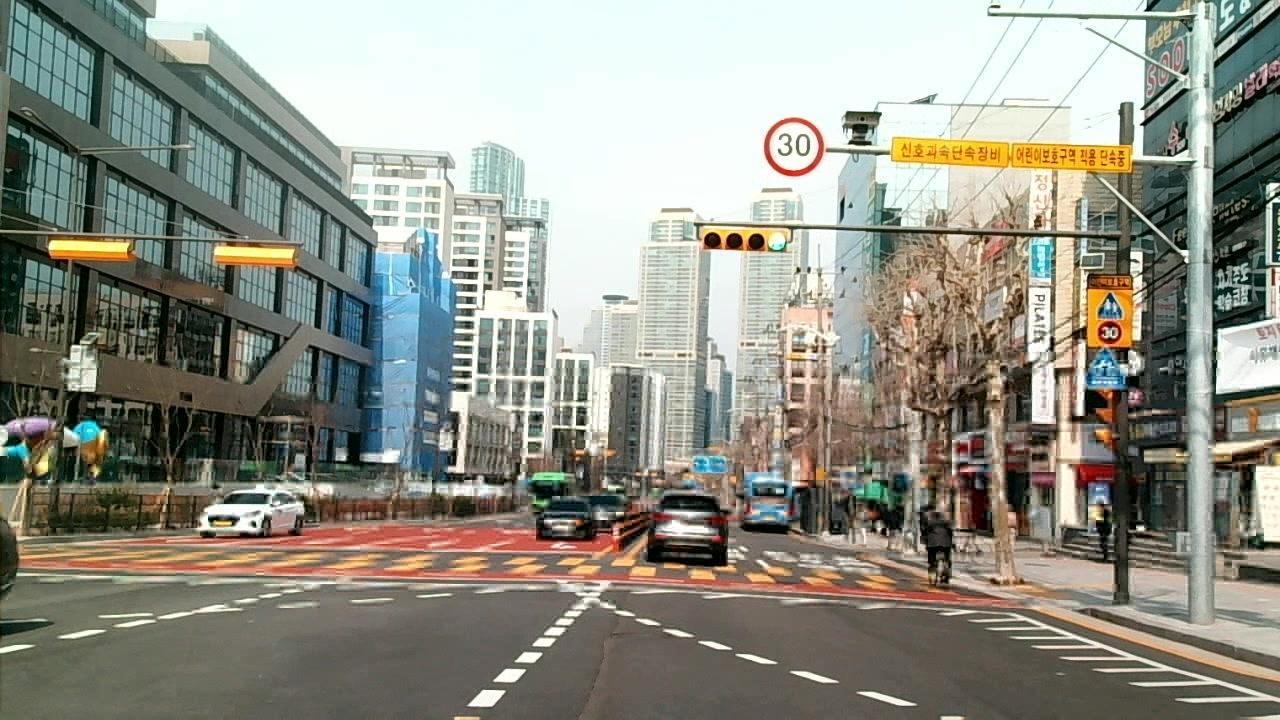banner: (1203, 312, 1280, 403)
